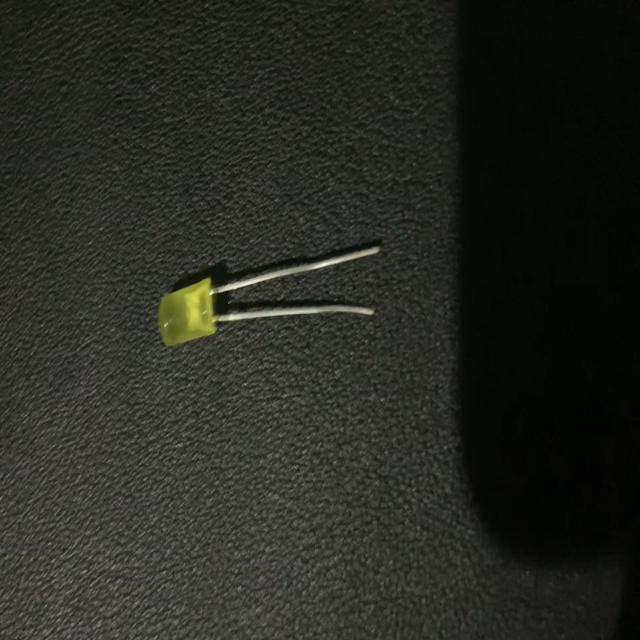LED: (156, 245, 380, 352)
